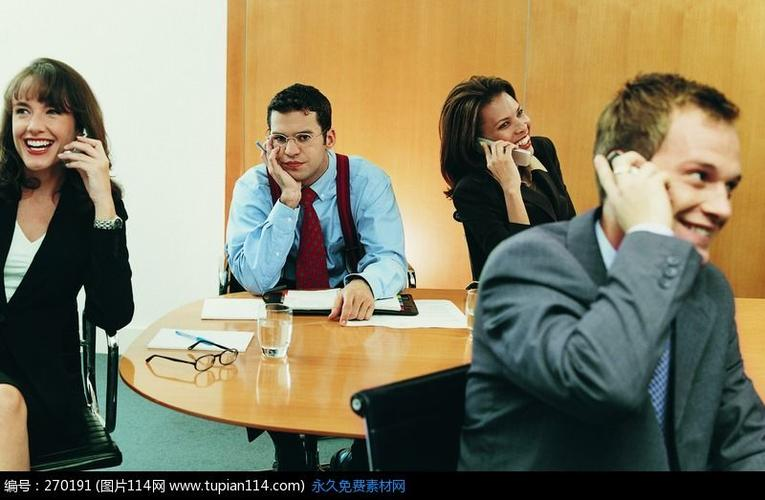calling: (591, 147, 679, 233), (55, 124, 113, 195), (474, 135, 532, 188)
